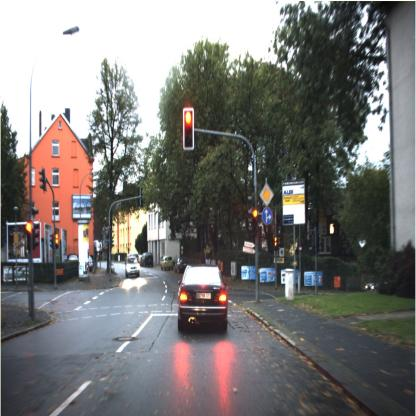go right: (262, 206, 272, 224)
priority road: (259, 182, 274, 206)
